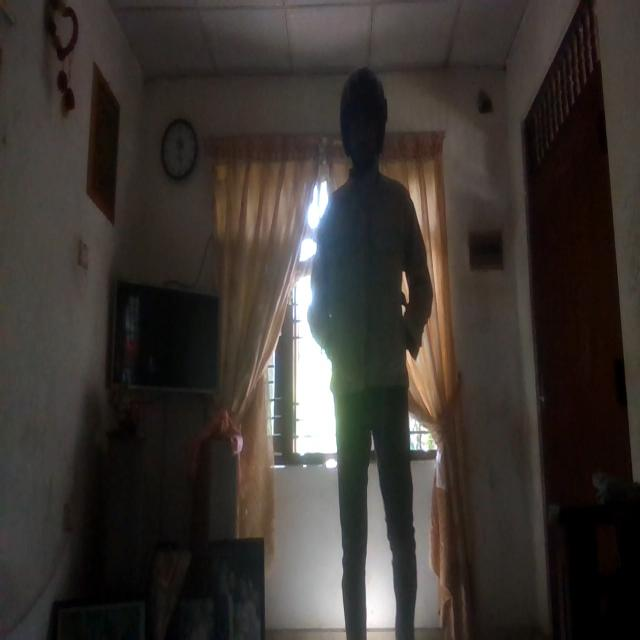Helmet_Wearer: (338, 70, 390, 174)
Jacket_Wearer: (312, 173, 432, 409)
Person: (312, 71, 429, 640)
